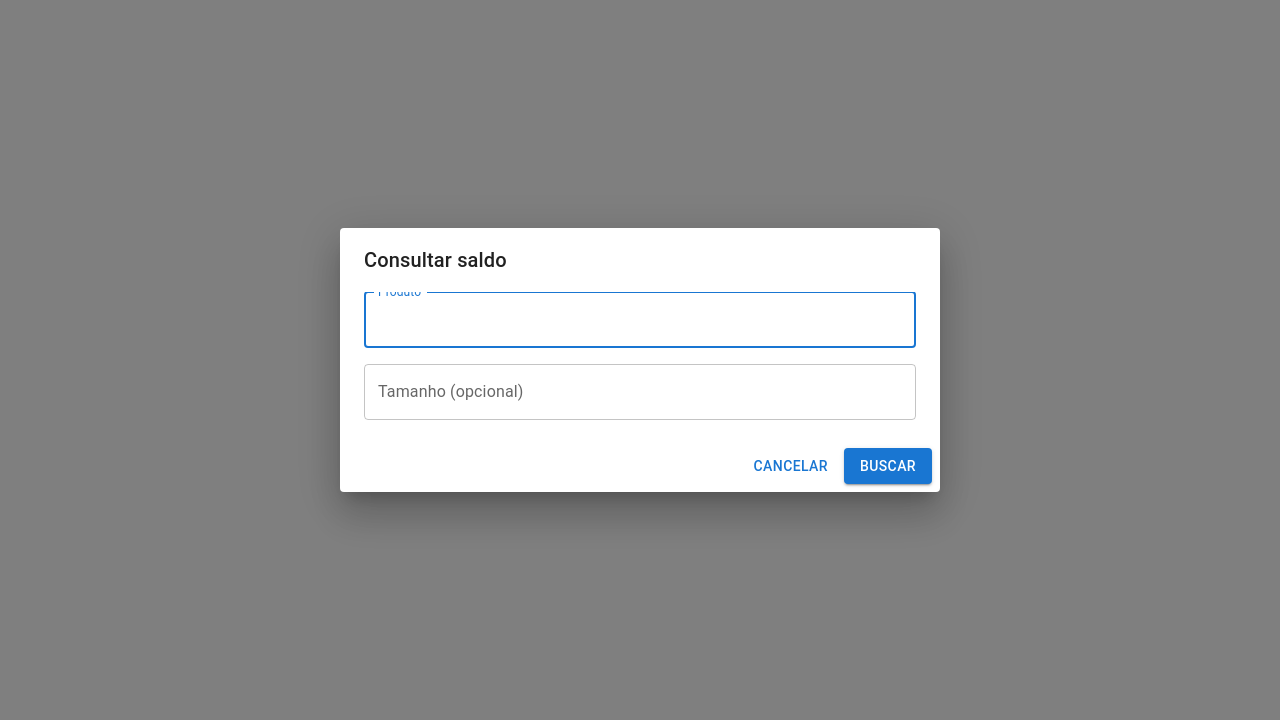
Test case: ConsultarSaldoDialog › mostra mensagem quando nao encontra nenhum item
Type "inexistente" into the field labelled "Produto" at (640, 320), box 364,292 -> 916,348
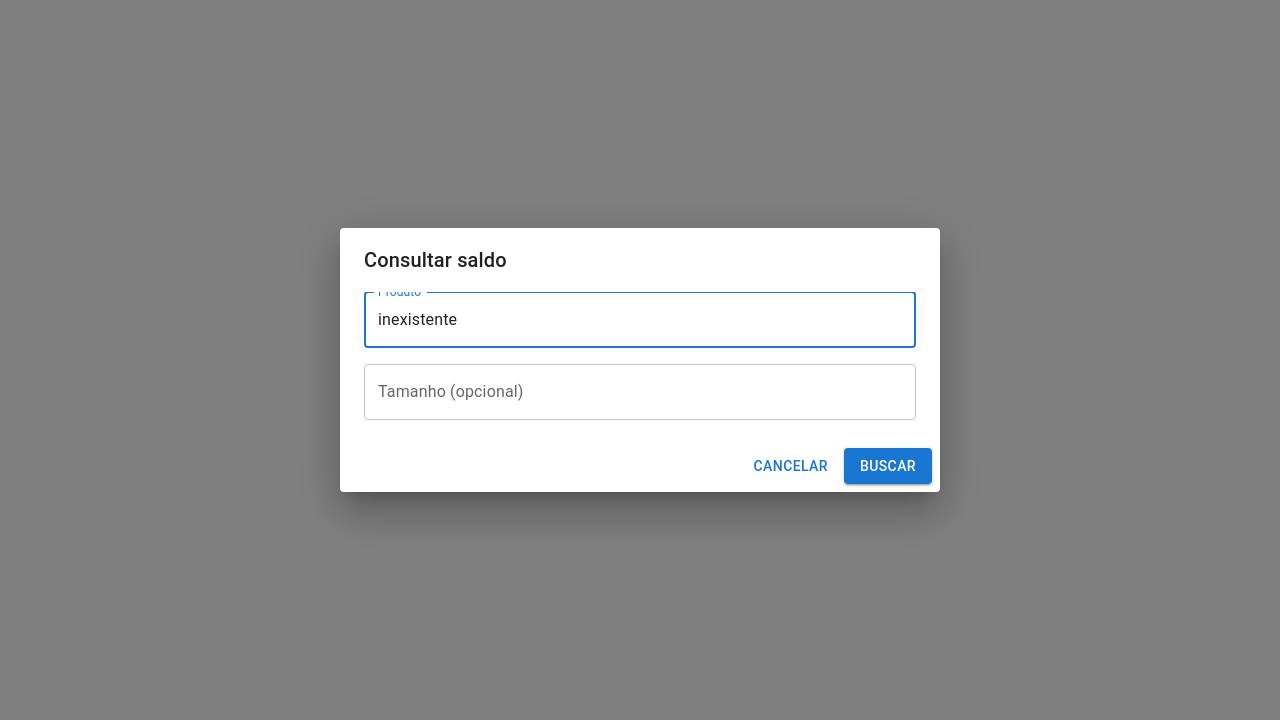
Click the button "Buscar" at (888, 466), box 844,448 -> 932,484
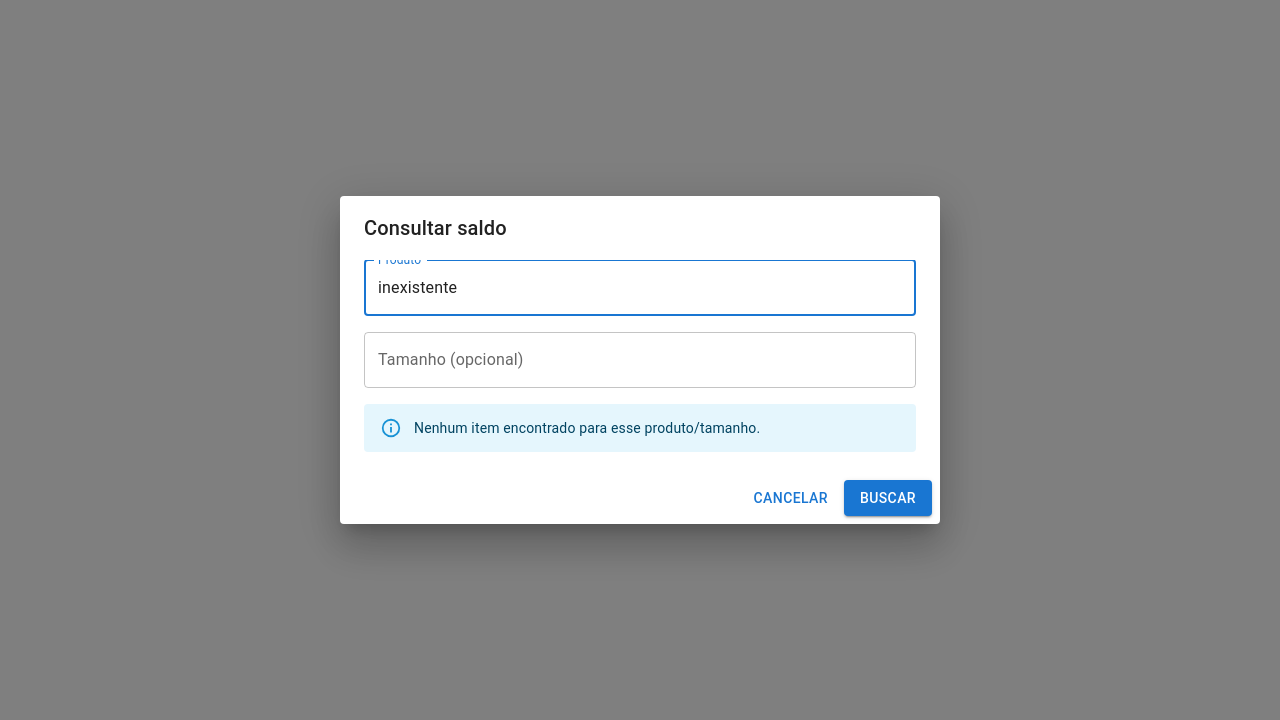
Expected: the text "Nenhum item encontrado para esse produto/tamanho." is shown, 414,420 -> 760,436
